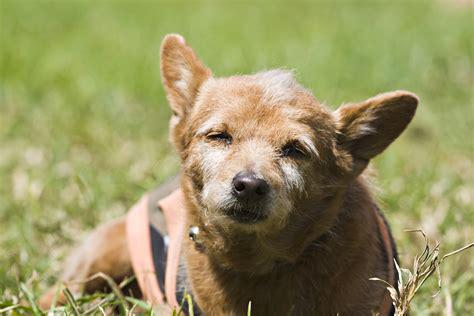dog: (41, 34, 417, 316)
